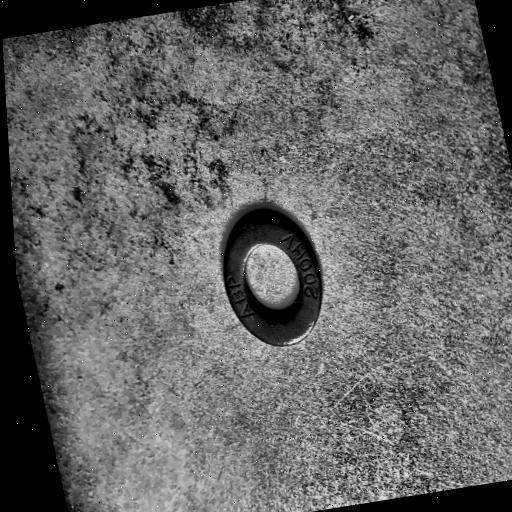Washer: (221, 203, 324, 348)
